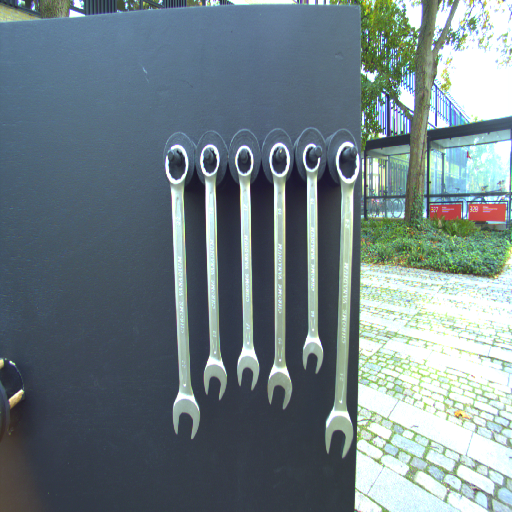bottom: (322, 405, 354, 458), (171, 391, 202, 440), (201, 353, 229, 400), (265, 364, 293, 409), (235, 350, 263, 392), (299, 334, 326, 373)
top: (334, 139, 360, 187), (164, 142, 190, 186), (266, 143, 292, 180), (197, 141, 220, 179), (233, 144, 255, 178), (300, 142, 322, 175)
